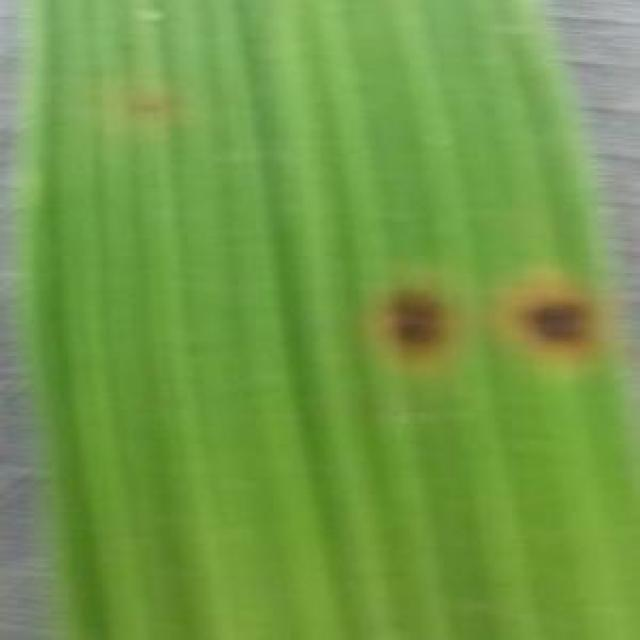brownspots: (364, 270, 466, 360), (506, 292, 602, 354)
